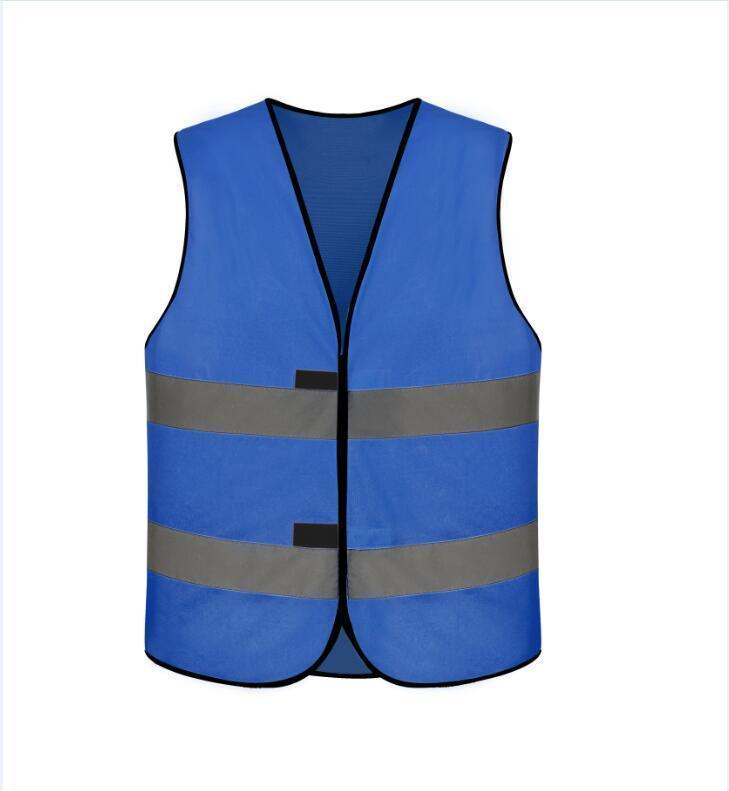vest: (143, 97, 542, 689)
